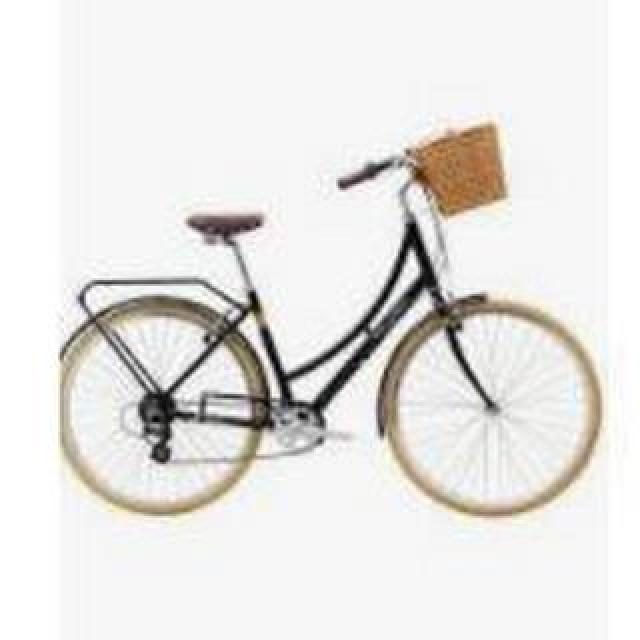Person: (57, 121, 605, 523)
